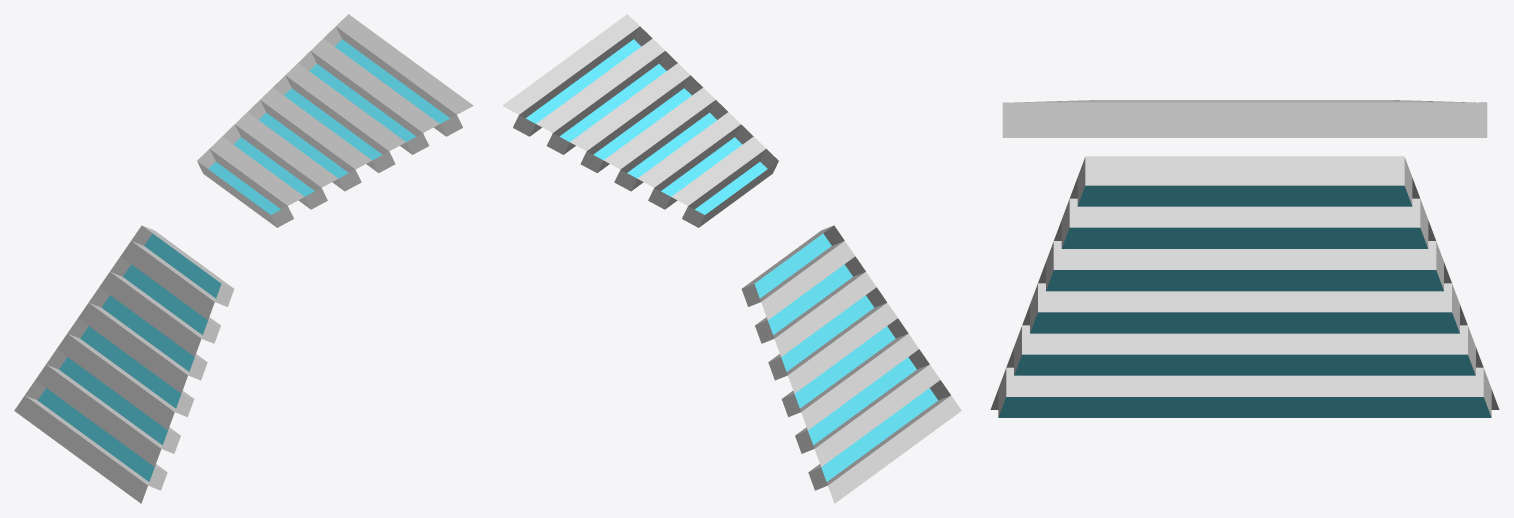
The model's file is Mod_Pauldron_R_Queen3.FBX.
3 renders of one model, left to right at view 1: azimuth 30°, elevation 25°; view 2: azimuth 150°, elevation 25°; view 3: azimuth 270°, elevation 25°, orthographic. The views are drawn at different scales.
Parts seen in each view (by area): view 1: Mod_Pauldron_R_Queen3; view 2: Mod_Pauldron_R_Queen3; view 3: Mod_Pauldron_R_Queen3.
Boxes of the visible parts, x1,y1,x2,y2 form: Mod_Pauldron_R_Queen3: (14,14,473,503); Mod_Pauldron_R_Queen3: (502,14,961,503); Mod_Pauldron_R_Queen3: (990,100,1499,417).
Bounding box in the file's own units: 218 × 198 × 144.
